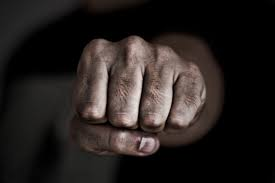fist: (69, 39, 203, 153)
